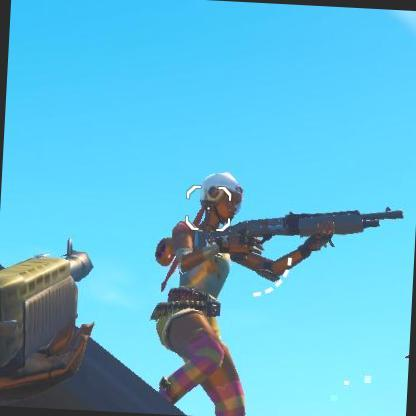person: (156, 160, 248, 402)
